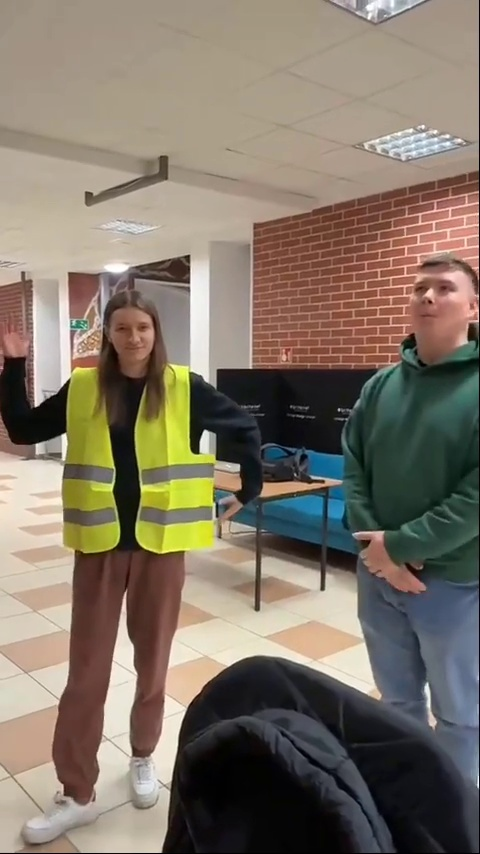no vest: (347, 255, 480, 739)
vest: (0, 292, 264, 825)
